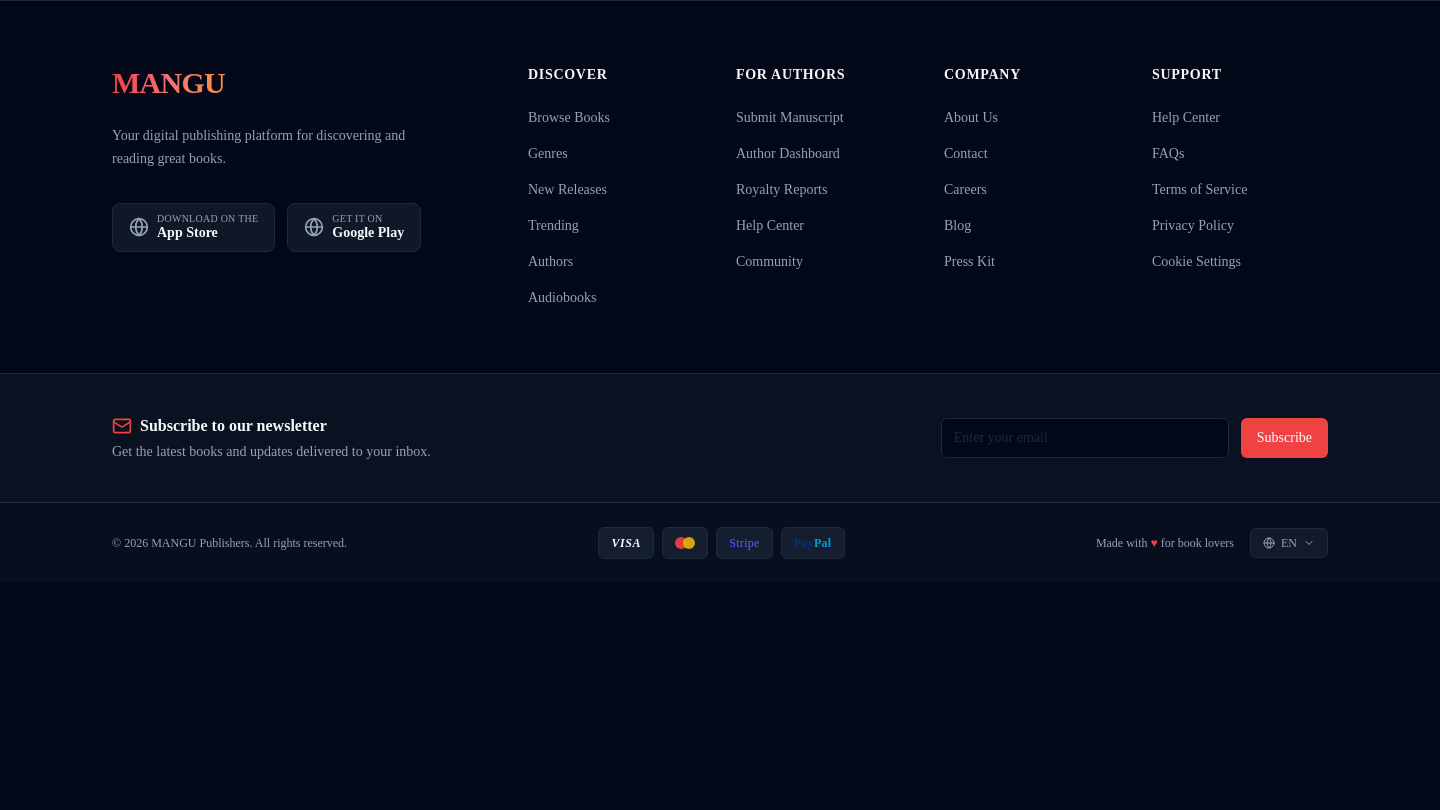
Footer newsletter form (P0-013) › renders a real error on network failure
This screenshot has width=1440, height=810.
Type "reader@example.com" into the field named "email address for newsletter" at (1085, 438), box [941,418,1229,458]
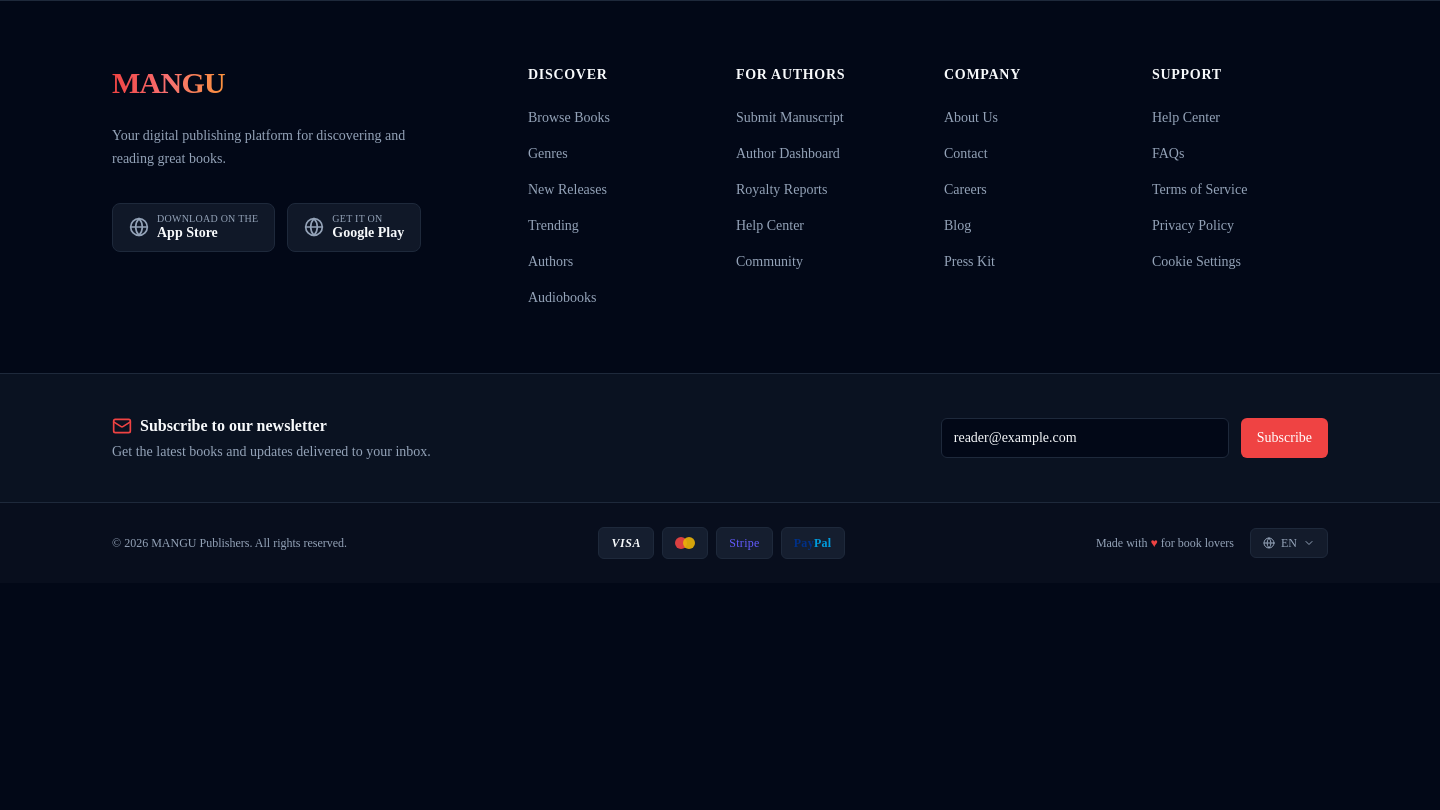
Click the button "Subscribe" at (1284, 438), box [1241,418,1328,458]
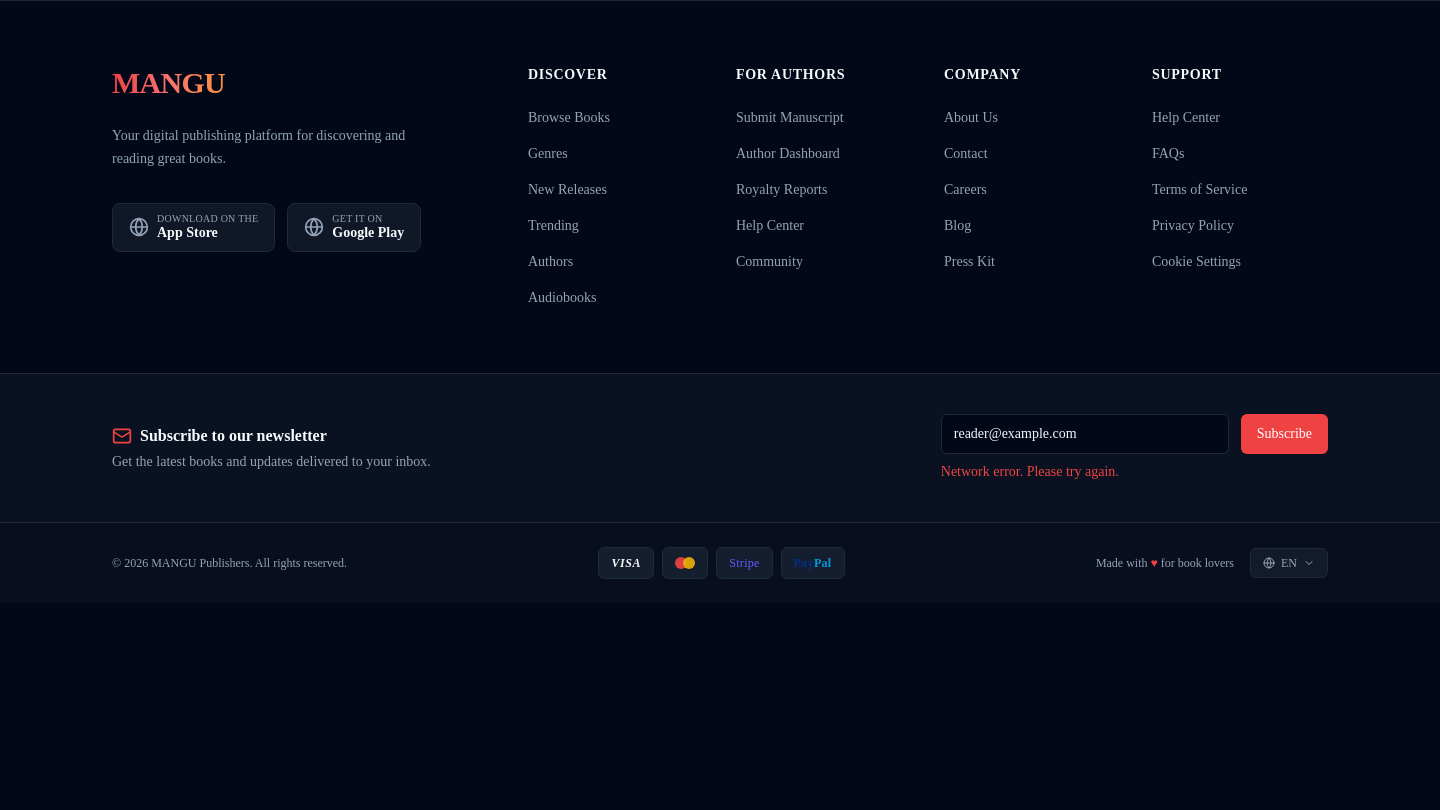
Expected: the message shows "Network error", [941,464,1119,479]
